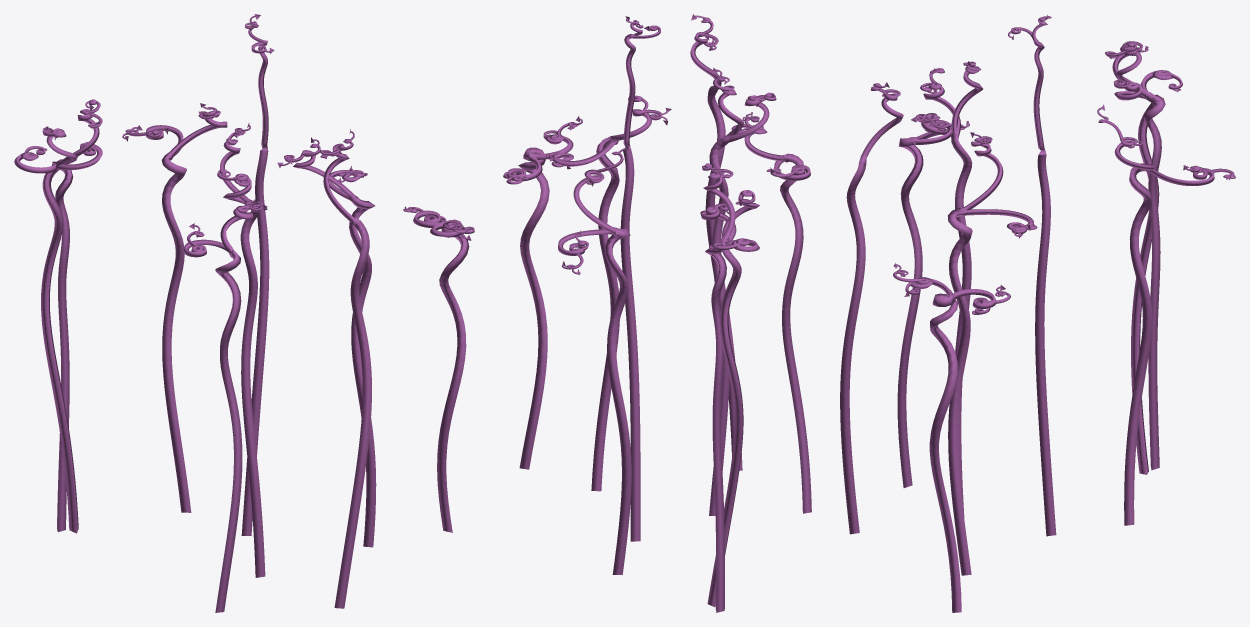
The model's file is grass.fbx.
3 views of the same model, side by side, from view 1: azimuth 30°, elevation 25°; view 2: azimuth 150°, elevation 25°; view 3: azimuth 270°, elevation 25° (orthographic).
Visible parts, largest first — view 1: alienGrass1Main; view 2: alienGrass1Main; view 3: alienGrass1Main.
Part boxes in pixels (box(x1,y1,x2,y2)): alienGrass1Main: box(14, 14, 474, 612); alienGrass1Main: box(503, 14, 811, 612); alienGrass1Main: box(840, 15, 1235, 612).
Size of the model in its own units: 2.41 by 3.48 by 2.38.
